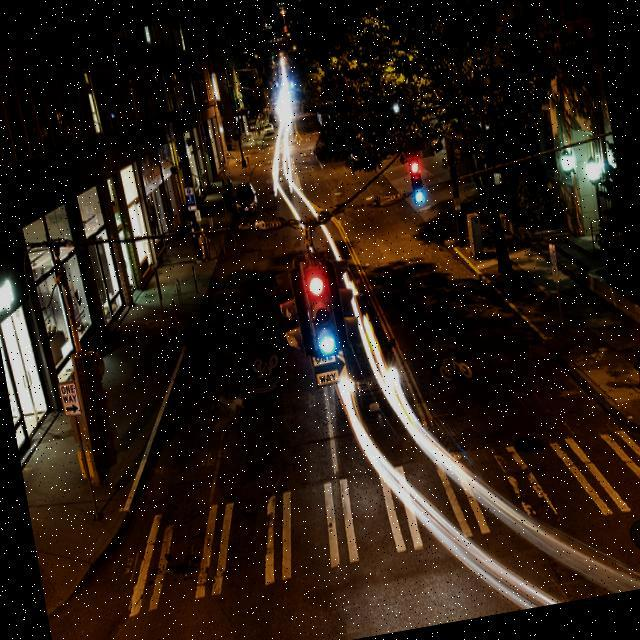fire_hydrant: (629, 346, 640, 390)
